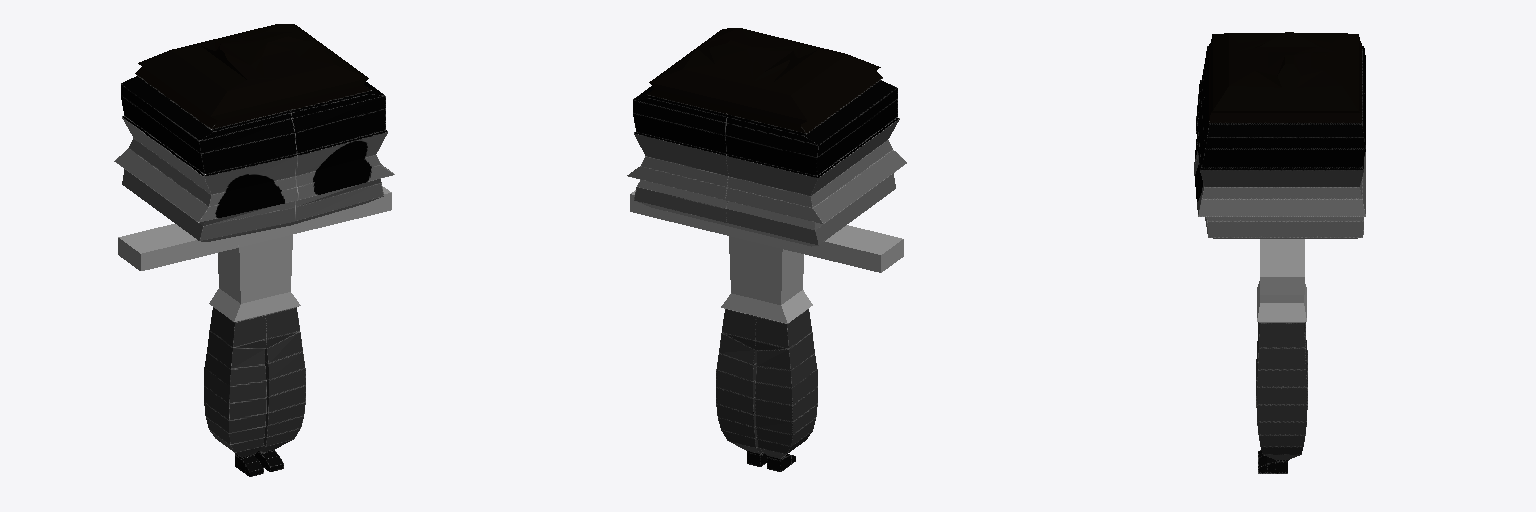
The picture shows the model from 3 angles: view 1: azimuth 30°, elevation 25°; view 2: azimuth 150°, elevation 25°; view 3: azimuth 270°, elevation 25°; orthographic projection.
Visible parts, largest first — view 1: pCube1; view 2: pCube1; view 3: pCube1.
Boxes of the visible parts, <box> form: pCube1: <box>114,24,394,476</box>; pCube1: <box>627,28,906,471</box>; pCube1: <box>1194,32,1365,473</box>.
Bounding box in the file's own units: 139 × 221 × 82.5.
Materials: 1 (1 with a texture image).